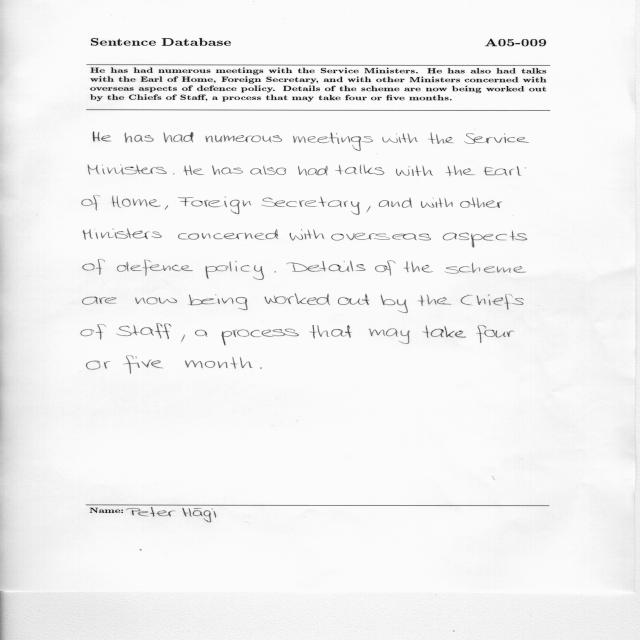word: (261, 196, 360, 215), (293, 132, 373, 151), (443, 230, 527, 248), (221, 329, 299, 346), (178, 197, 251, 215), (117, 260, 193, 276), (205, 261, 264, 280), (178, 229, 278, 240), (461, 294, 523, 310), (444, 262, 526, 274), (188, 294, 248, 310), (287, 260, 366, 272), (88, 164, 167, 175), (83, 229, 162, 240), (117, 323, 171, 339), (185, 357, 253, 369), (331, 233, 431, 241), (123, 356, 163, 374), (464, 133, 529, 144), (265, 294, 330, 305), (477, 325, 515, 343), (369, 328, 410, 344), (112, 195, 161, 208), (422, 325, 466, 338), (309, 325, 352, 338), (205, 135, 282, 142), (380, 295, 408, 313), (335, 165, 384, 175), (460, 197, 502, 208), (290, 229, 325, 241), (418, 294, 452, 306), (396, 165, 433, 176), (81, 324, 106, 340), (484, 166, 521, 176), (379, 197, 412, 208), (382, 133, 418, 143), (251, 165, 287, 175), (403, 261, 433, 273), (421, 197, 453, 208), (83, 259, 105, 275), (338, 294, 369, 305), (375, 260, 396, 276), (446, 166, 475, 177), (428, 132, 454, 144), (212, 165, 243, 175), (124, 133, 154, 143), (164, 132, 194, 142), (298, 166, 328, 176), (135, 297, 177, 304), (82, 297, 117, 305), (82, 196, 100, 211), (87, 361, 111, 370), (184, 165, 205, 175), (93, 132, 112, 142), (195, 330, 207, 337), (181, 335, 185, 342), (367, 206, 371, 212), (165, 205, 168, 210), (173, 173, 175, 175), (274, 271, 276, 273), (260, 368, 262, 369)
